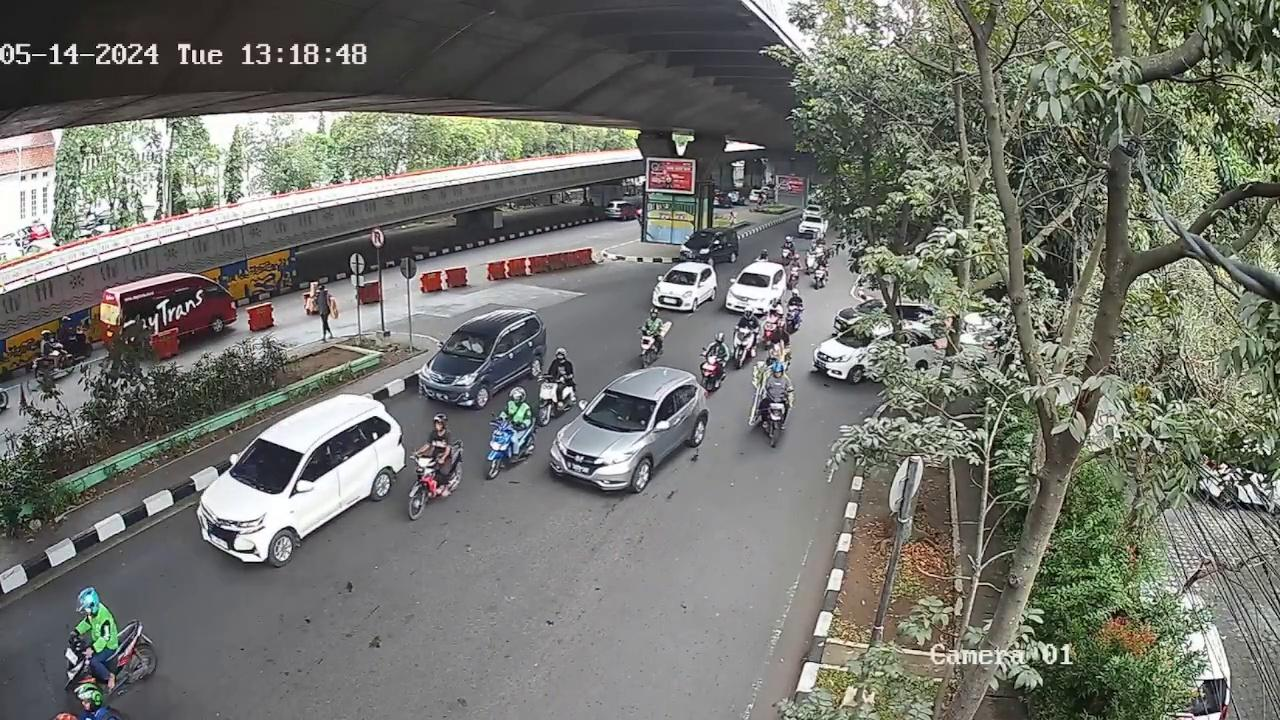pakai: (460, 338, 484, 355)
windshield: (225, 434, 302, 492), (584, 388, 655, 428), (442, 330, 498, 358)
